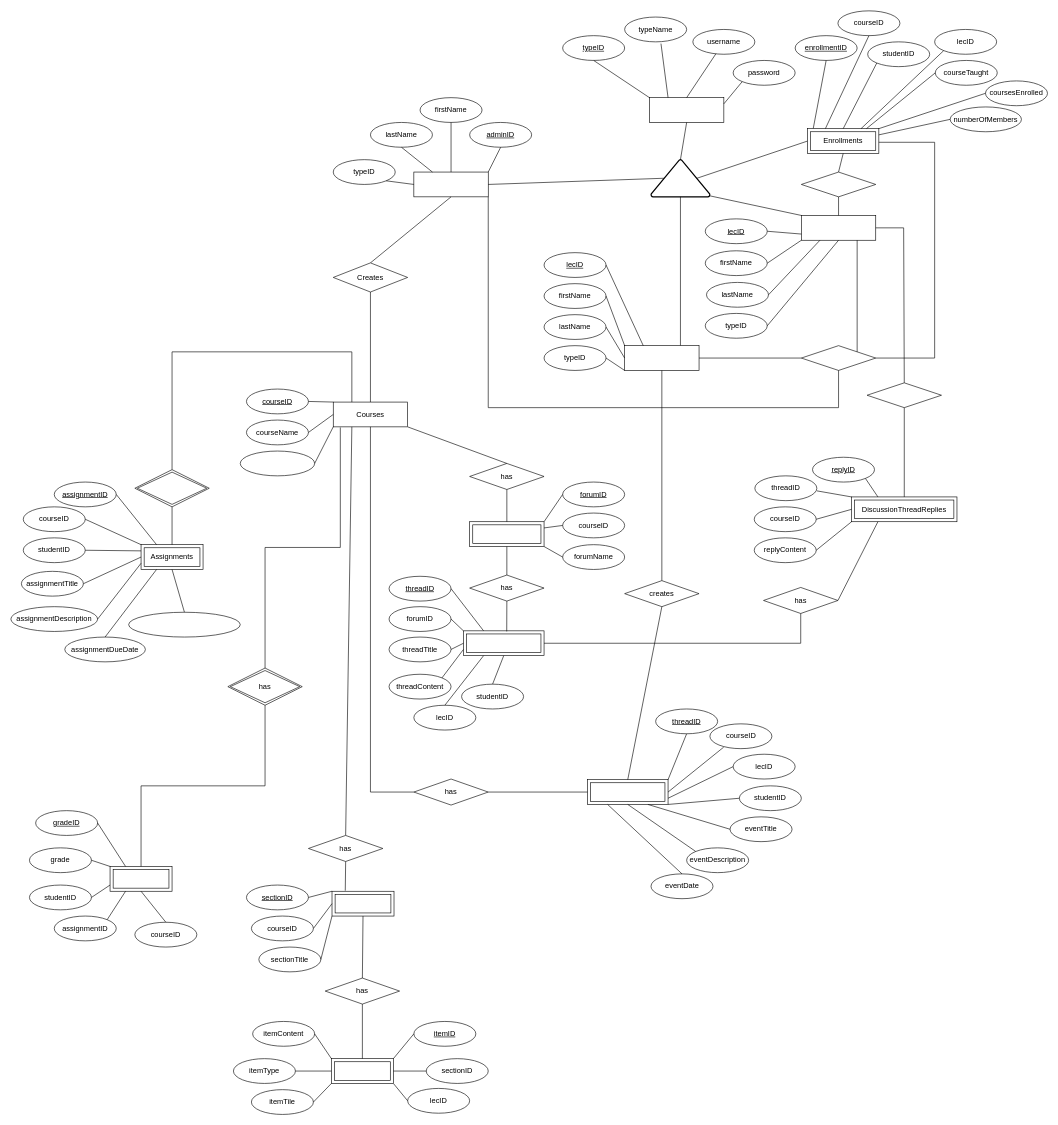
Image size: 1058x1125. Some labels were removed from this diagram. Each missing label, with the centre of its shape:
"Account" goes at pixel 686 109.
"Admins" goes at pixel 450 184.
"assignmentSubmissionDate" goes at pixel 184 624.
"belongsTo" goes at pixel 171 488.
"CalenderEvents" goes at pixel 627 791.
"courseDescription" goes at pixel 277 463.
"Create" goes at pixel 838 357.
"DiscussionForums" goes at pixel 506 534.
"DiscussionThreads" goes at pixel 503 643.
"enrols" goes at pixel 838 184.
"Grades" goes at pixel 140 878.
"IS A" goes at pixel 680 178.
"Lecturer" goes at pixel 661 357.
"makes" goes at pixel 903 395.
"SectionItems" goes at pixel 362 1070.
"Sections" goes at pixel 362 903.
"Student" goes at pixel 838 227.
